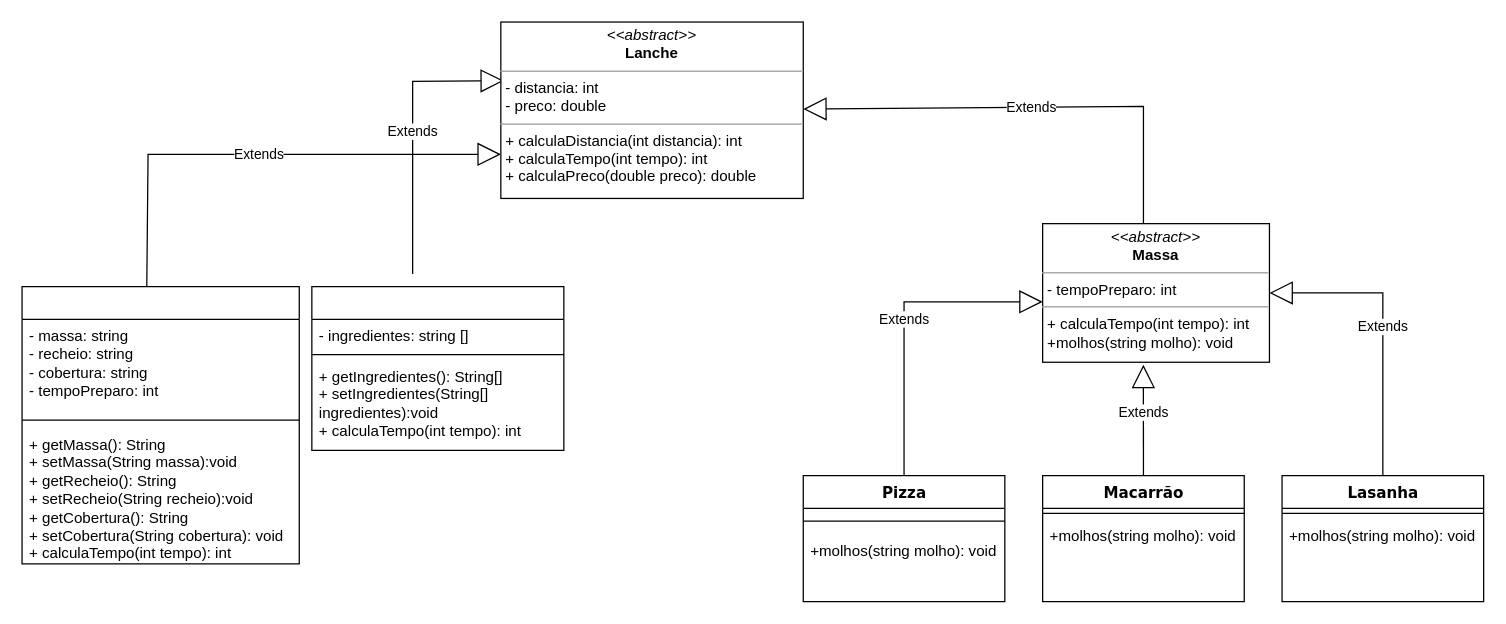
Some shapes in this 1506 by 624 pixel diagram are drawn without their labels. Here are the shapes that lost their labels. From the top down, the box of each, then its label:
(311, 285, 564, 450): Sanduiche
(21, 285, 299, 564): Bolo
